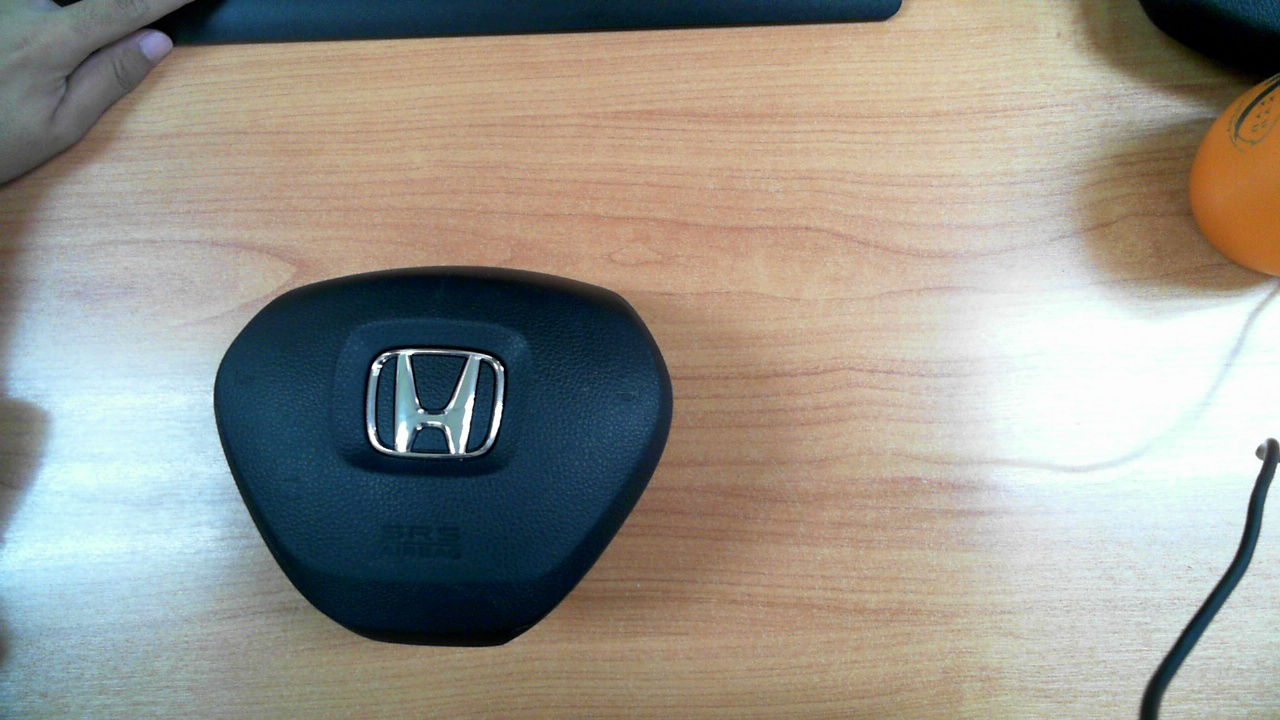Airbag: (213, 265, 675, 647)
Honda: (366, 349, 503, 455)
